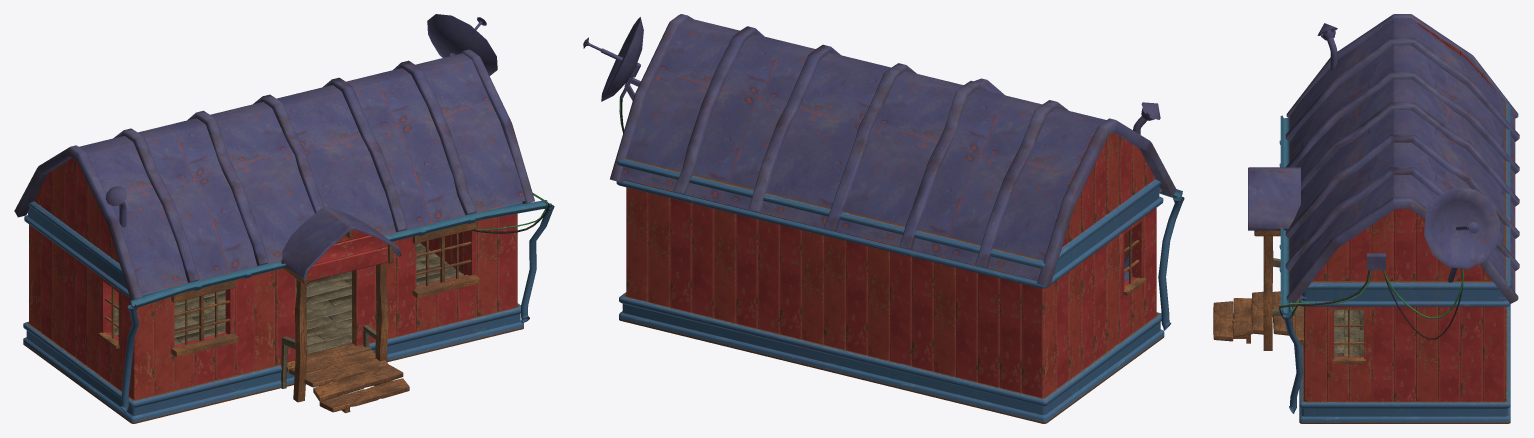
The model's file is House.fbx.
3 renders of one model, left to right at view 1: azimuth 30°, elevation 25°; view 2: azimuth 150°, elevation 25°; view 3: azimuth 270°, elevation 25°, orthographic. The views are drawn at different scales.
Visible parts, largest first — view 1: Plane.002, Wood_B_House.005, Loco_Balca_B_low, Cube.036, Cube.033, Roof.003, Cube.046, Wood_B_House.001, Cube.037, Cube.038, Cylinder.013, Cube.035 (+11 smaller); view 2: Plane.002, Wood_B_House.005, Cube.036, Loco_Balca_B_low, Cube.035, Roof.003, Wood_B_House.001, Cylinder.017, Cylinder.012, Cylinder.018; view 3: Plane.002, Wood_B_House.005, Loco_Balca_B_low, Wood_B_House.001, Cube.035, Cube.036, Cylinder.017, Roof.003, Cube.038, Cube.037, Cylinder.013, Cube.033 (+10 smaller).
Part boxes in pixels (x1,y1,x2,y2): Plane.002: (79,53,525,294); Wood_B_House.005: (29,213,517,399); Loco_Balca_B_low: (113,60,476,282); Cube.036: (23,303,523,423); Cube.033: (114,242,463,354); Roof.003: (14,49,534,299); Cube.046: (171,221,479,357); Wood_B_House.001: (34,158,119,263); Cube.037: (281,262,388,402); Cube.038: (281,206,401,280); Cylinder.013: (130,200,551,308); Cube.035: (24,201,522,299); Plane.002: (620,18,1162,280); Wood_B_House.005: (626,187,1156,397); Cube.036: (619,292,1164,423); Loco_Balca_B_low: (673,26,1068,268); Cube.035: (616,158,1163,288); Roof.003: (610,14,1176,286); Wood_B_House.001: (650,31,1155,247); Cylinder.017: (583,17,643,101); Cylinder.012: (1158,196,1184,330); Cylinder.018: (1124,102,1160,282); Plane.002: (1289,19,1515,298); Wood_B_House.005: (1304,306,1505,401); Loco_Balca_B_low: (1285,37,1519,271); Wood_B_House.001: (1313,23,1499,280); Cube.035: (1299,102,1510,306); Cube.036: (1299,305,1510,423); Cylinder.017: (1424,187,1500,282); Roof.003: (1286,14,1518,303); Cube.038: (1248,167,1300,230); Cube.037: (1263,236,1300,350); Cylinder.013: (1280,115,1292,314); Cube.033: (1334,309,1363,356).
Size of the model in its own units: 1117 by 599 by 683.
